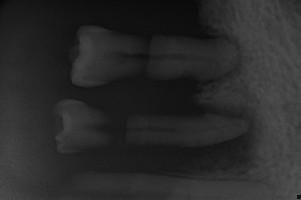Dental Caries: (182, 16, 260, 171)
